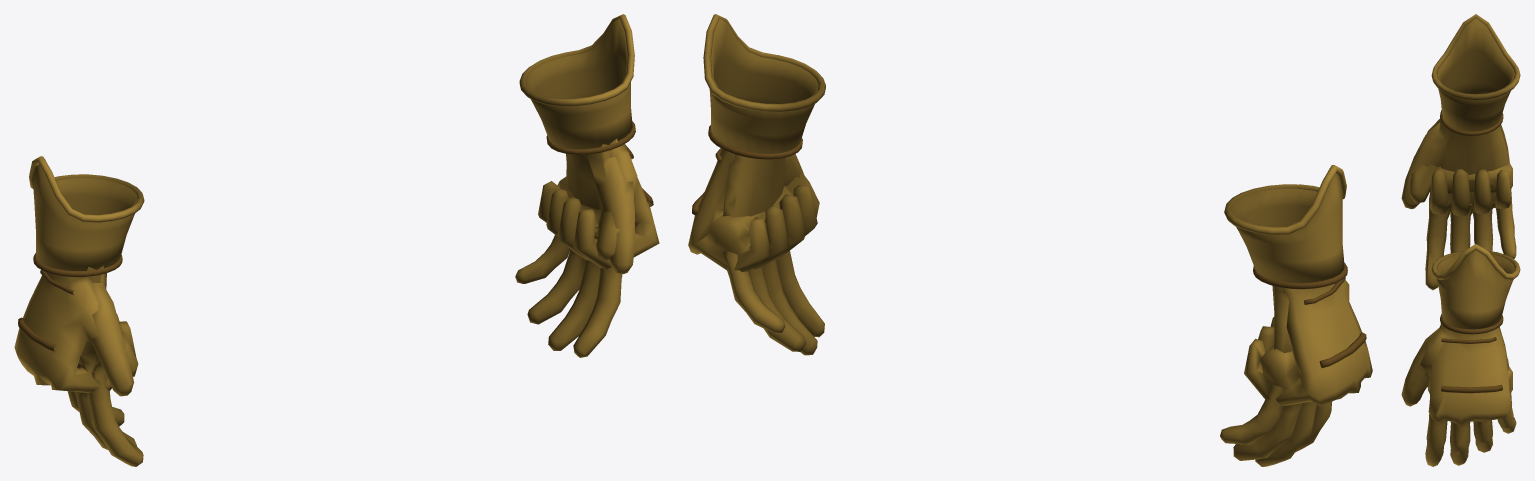
File: g_celestial_f.glb
3 views of the same model, side by side, from view 1: azimuth 30°, elevation 25°; view 2: azimuth 150°, elevation 25°; view 3: azimuth 270°, elevation 25° (orthographic). The views are drawn at different scales.
Visible parts, largest first — view 1: ArmL_HandOpen, ArmL_Gauntlet, ArmR_Gauntlet, ArmR_Hand, ArmL_Hand, ArmR_HandOpen; view 2: ArmL_Gauntlet, ArmR_Hand, ArmR_Gauntlet, ArmL_HandOpen, ArmL_Hand, ArmR_HandOpen; view 3: ArmR_HandOpen, ArmL_Hand, ArmR_Gauntlet, ArmL_Gauntlet, ArmR_Hand, ArmL_HandOpen.
Boxes of the visible parts, x1,y1,x2,y2 form: ArmL_HandOpen: (515,140,634,357); ArmL_Gauntlet: (519,14,635,154); ArmR_Gauntlet: (29,156,144,277); ArmR_Hand: (14,266,138,392); ArmL_Hand: (538,138,659,269); ArmR_HandOpen: (67,266,143,466); ArmL_Gauntlet: (703,14,825,159); ArmR_Hand: (1244,277,1372,406); ArmR_Gauntlet: (1224,165,1347,289); ArmL_HandOpen: (722,154,824,355); ArmL_Hand: (688,148,819,271); ArmR_HandOpen: (1220,285,1331,466); ArmR_HandOpen: (1401,116,1516,290); ArmL_Hand: (1420,317,1512,426); ArmR_Gauntlet: (1431,14,1520,135); ArmL_Gauntlet: (1431,244,1520,334); ArmR_Hand: (1409,115,1512,216); ArmL_HandOpen: (1401,317,1516,466).
Bounding box in the file's own units: 0.5902 × 0.2856 × 0.1226.
